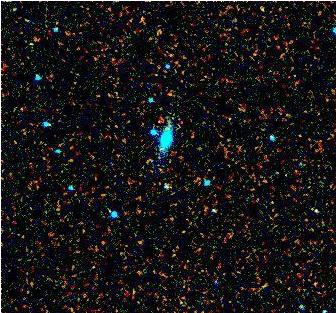star: (7, 0, 37, 28)
